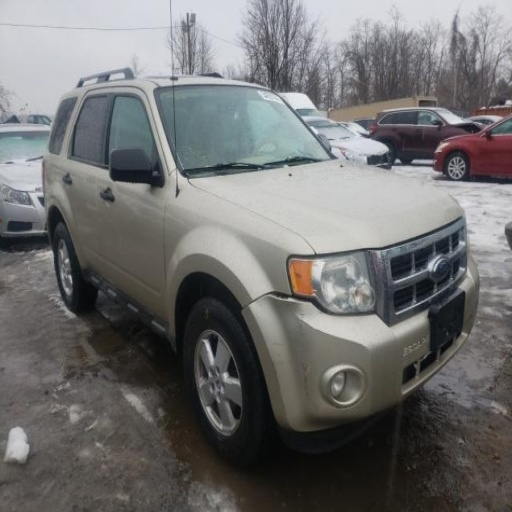scratch: (295, 358, 313, 401), (293, 308, 311, 336)
